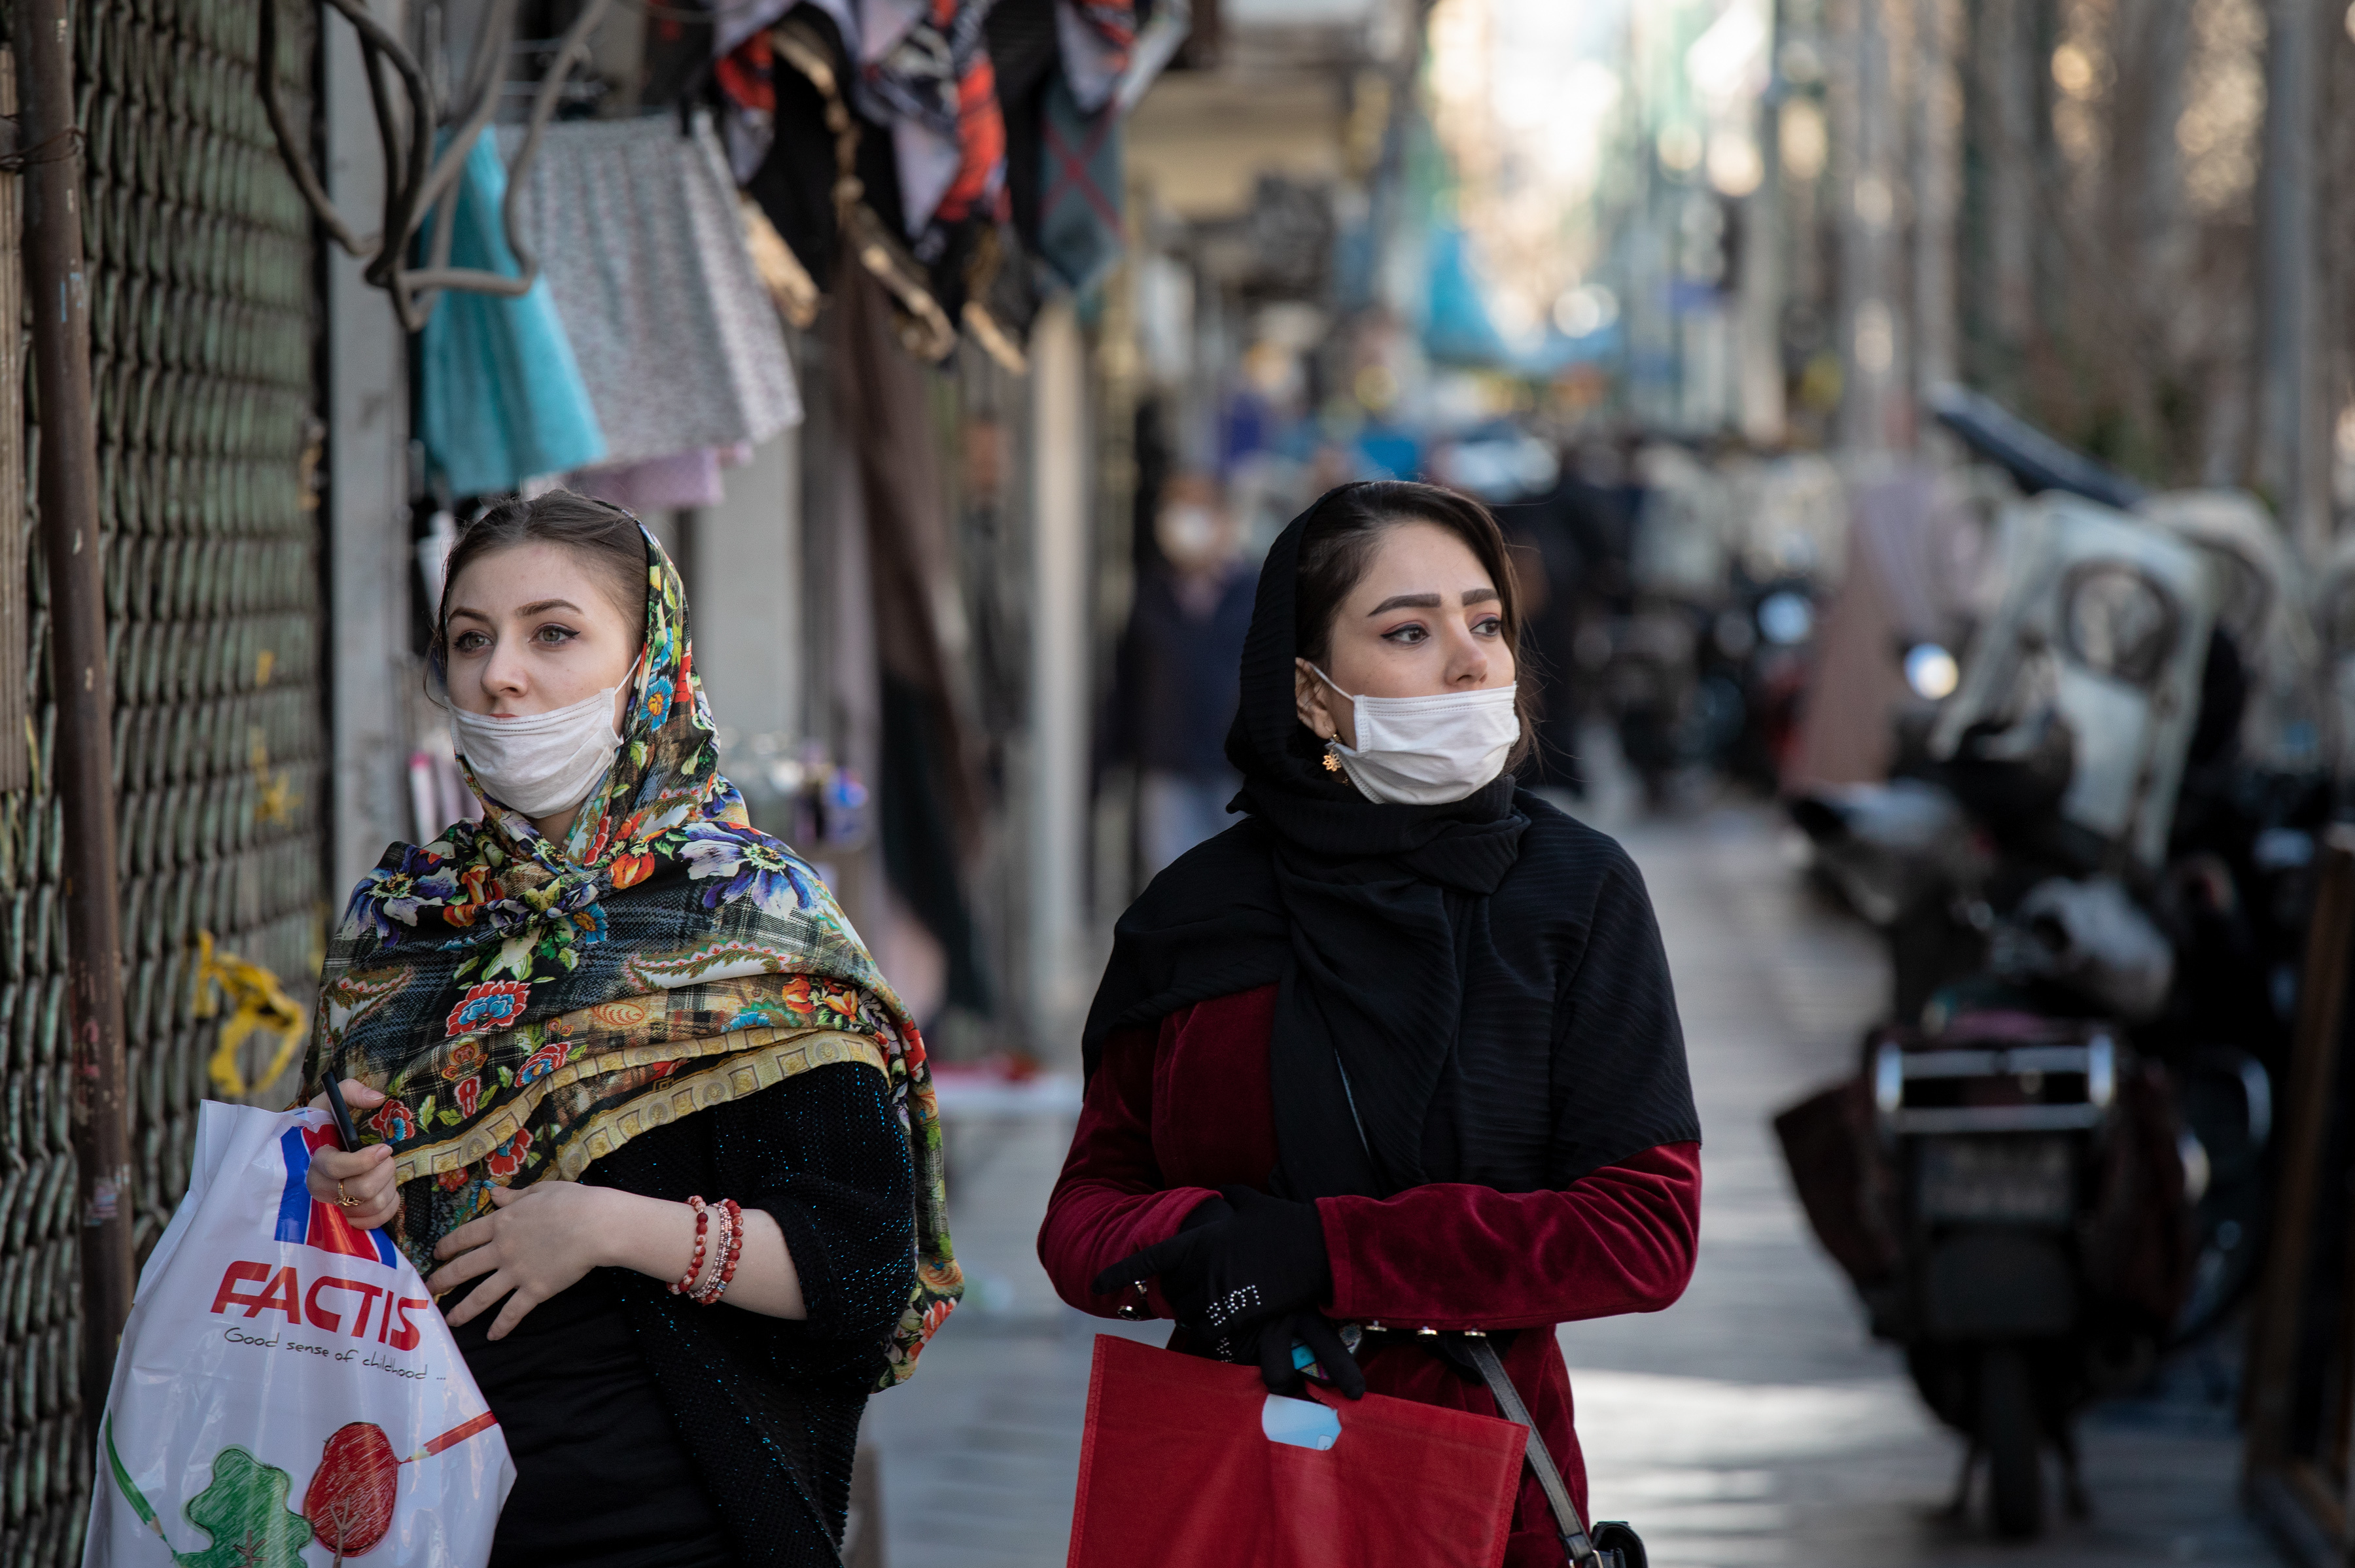Person: (261, 475, 952, 1568), (1065, 475, 1691, 1550)
